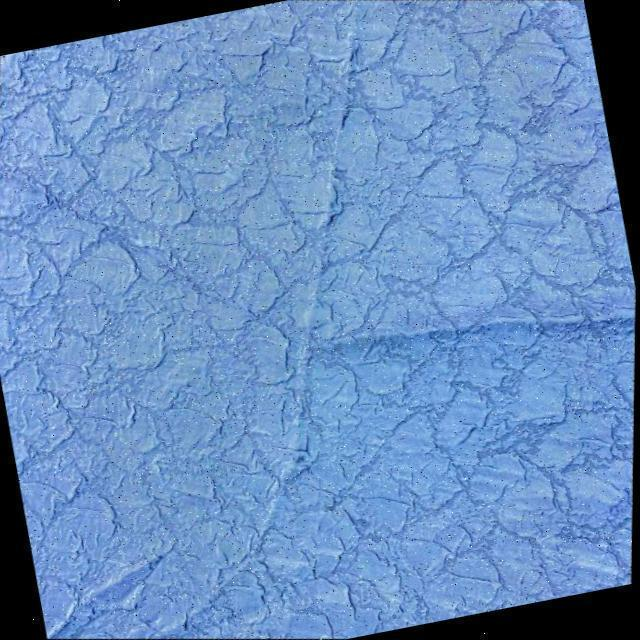broken_yarn: (262, 9, 361, 543), (309, 309, 633, 354)
